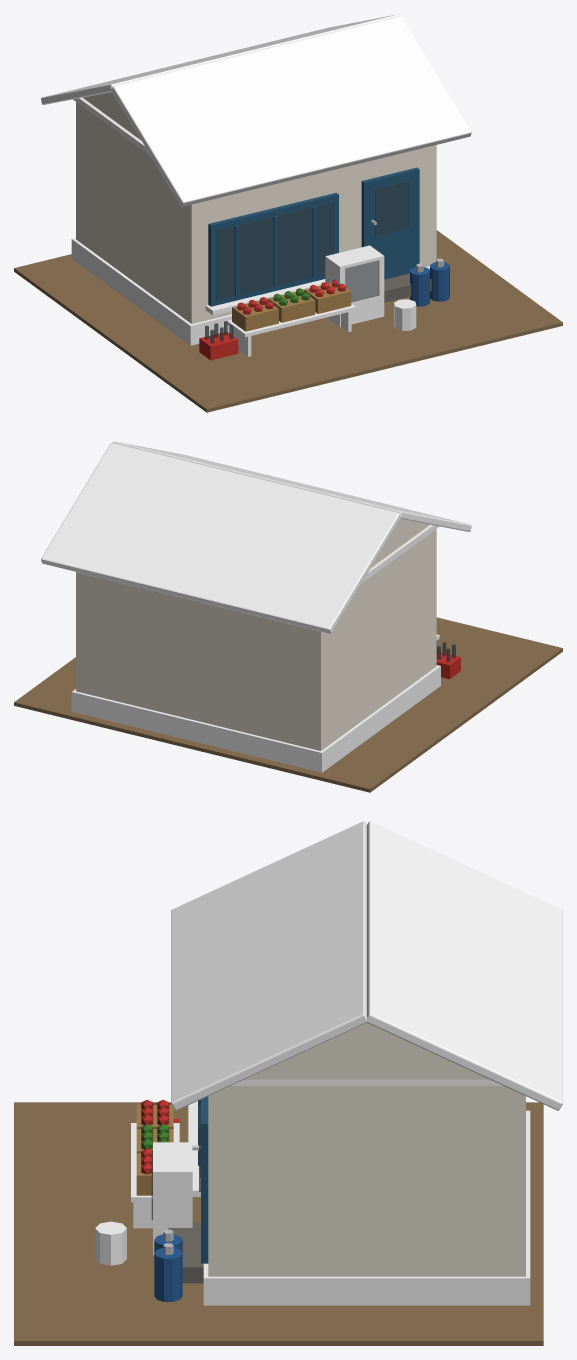
The model's file is bakkal.glb.
3 views of the same model, one above another, from view 1: azimuth 30°, elevation 25°; view 2: azimuth 150°, elevation 25°; view 3: azimuth 270°, elevation 25° (orthographic). The views are drawn at different scales.
Visible parts, largest first — view 1: Alin; view 2: Alin; view 3: Alin.
Boxes of the visible parts, x1,y1,x2,y2 form: Alin: (14,14,562,412); Alin: (14,441,562,792); Alin: (14,821,562,1345).
Size of the model in its own units: 1 by 0.6043 by 0.9718.
